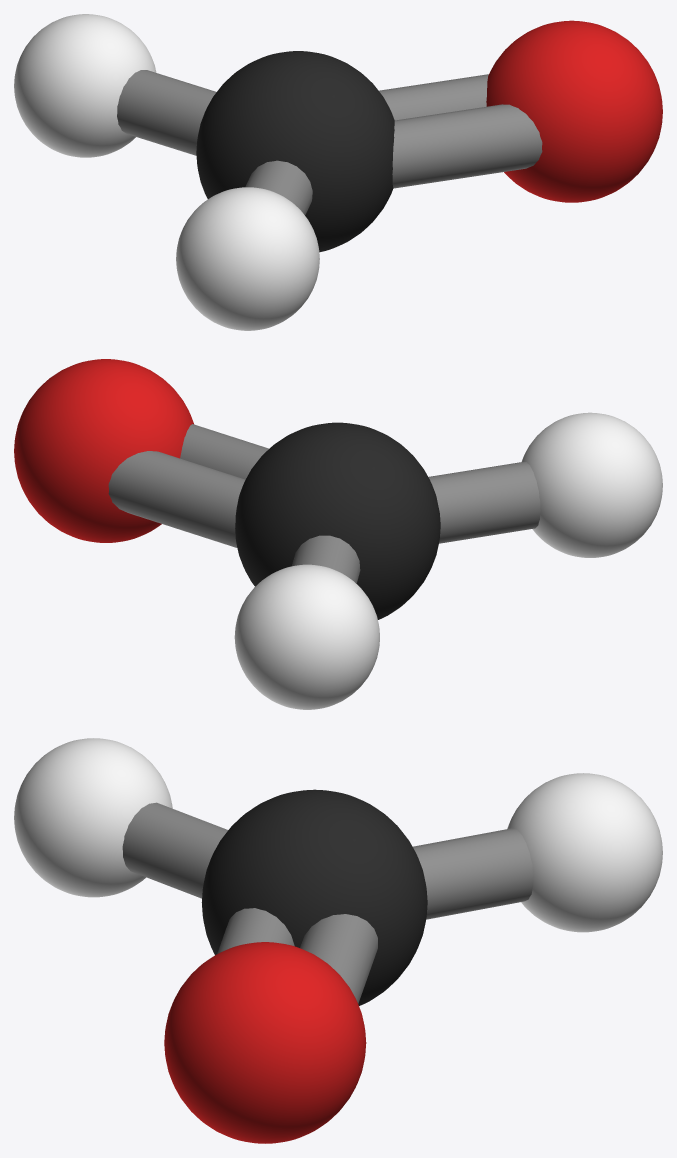
Rendered from methanal.glb.
The picture shows the model from 3 angles, top to bottom: view 1: azimuth 30°, elevation 25°; view 2: azimuth 150°, elevation 25°; view 3: azimuth 270°, elevation 25°; orthographic projection. The views are drawn at different scales.
Parts seen in each view (by area): view 1: C_0, O_1, H_3, H_2, B0a, B1, B0b, B2; view 2: C_0, O_1, H_2, H_3, B0b, B2, B0a, B1; view 3: O_1, C_0, H_2, H_3, B1, B2, B0b, B0a.
Part boxes in pixels (x1,y1,x2,y2): C_0: (196,51,394,252); O_1: (486,20,662,202); H_3: (176,187,319,330); H_2: (14,14,156,157); B0a: (392,104,542,188); B1: (117,70,216,155); B0b: (379,74,488,120); B2: (245,160,312,215); C_0: (235,422,440,619); O_1: (14,359,193,542); H_2: (234,564,379,709); H_3: (521,412,662,557); B0b: (108,451,245,547); B2: (428,462,540,543); B0a: (180,424,268,479); B1: (292,535,360,583); O_1: (164,942,366,1143); C_0: (201,789,427,1005); H_2: (507,773,662,932); H_3: (14,738,172,897); B1: (413,828,533,919); B2: (122,802,228,898); B0b: (300,914,377,1003); B0a: (217,908,294,953).
Size of the model in its own units: 2.61 by 0.85 by 2.44.
